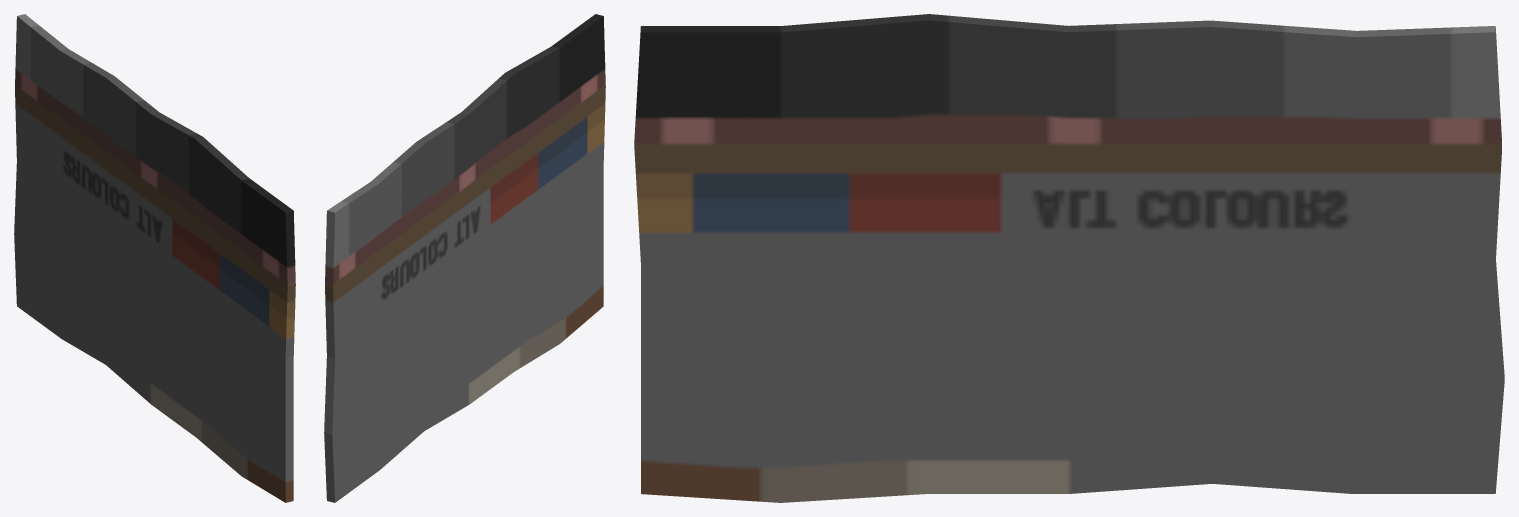
File: SM_Flag_Spanish_01.glb
3 views of the same model, side by side, from view 1: azimuth 30°, elevation 25°; view 2: azimuth 150°, elevation 25°; view 3: azimuth 270°, elevation 25° (orthographic). The views are drawn at different scales.
Parts seen in each view (by area): view 1: SM_Flag_Spanish_01_00; view 2: SM_Flag_Spanish_01_00; view 3: SM_Flag_Spanish_01_00.
Boxes of the visible parts, x1,y1,x2,y2 form: SM_Flag_Spanish_01_00: [14, 14, 295, 502]; SM_Flag_Spanish_01_00: [324, 14, 605, 502]; SM_Flag_Spanish_01_00: [634, 14, 1504, 502].
Size of the model in its own units: 0.0403 by 1.42 by 2.32.
Materials: 1 (1 with a texture image).
